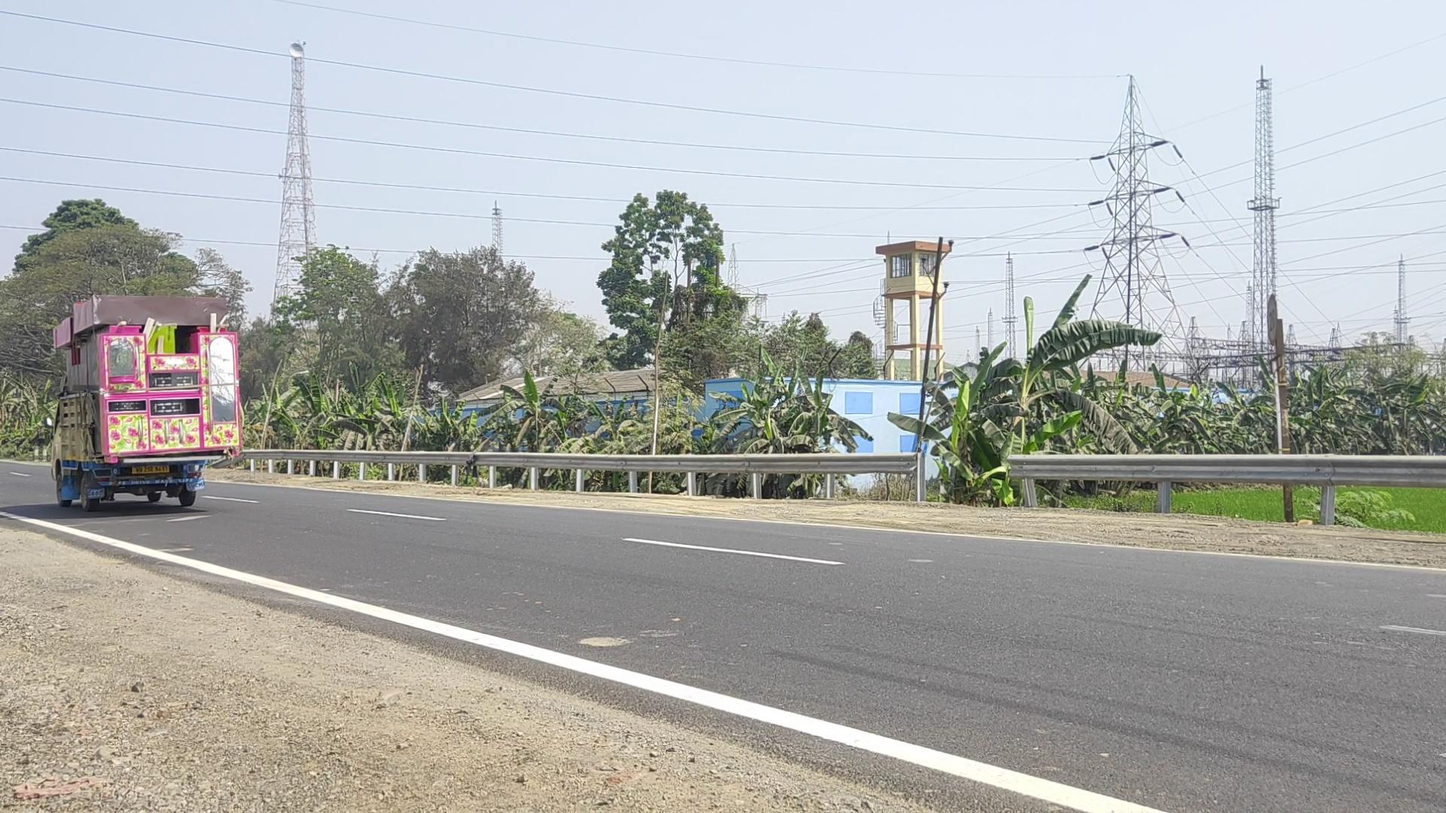van: (45, 294, 240, 513)
